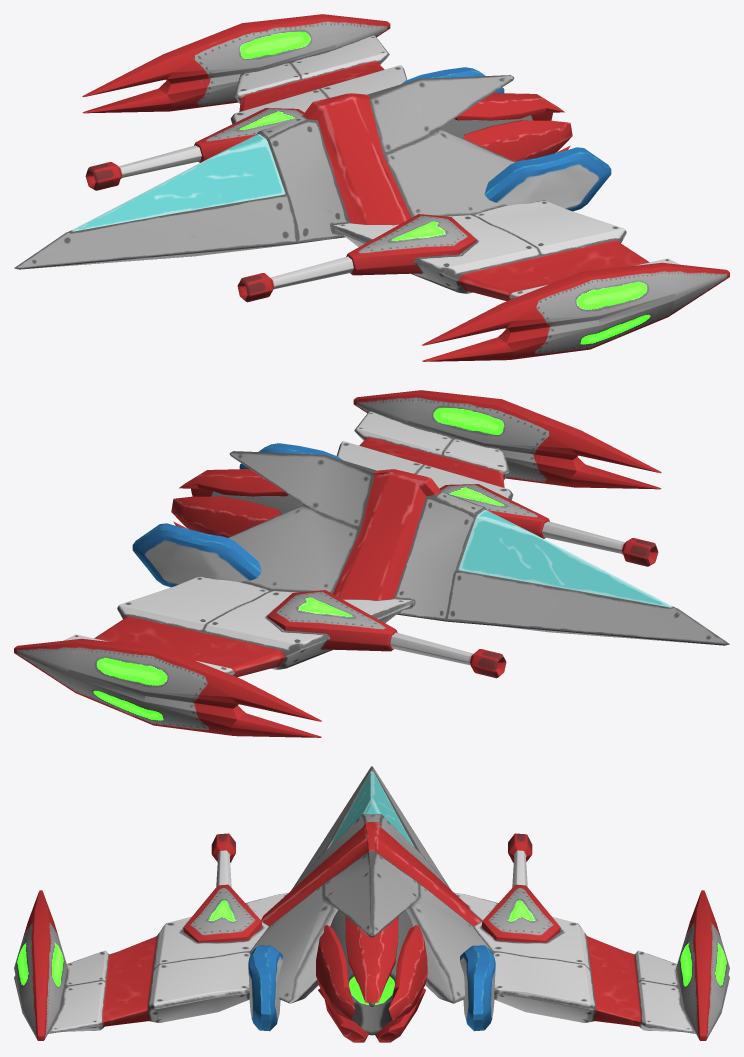
The model's file is galaga_ship.glb.
The picture shows the model from 3 angles, top to bottom: view 1: azimuth 30°, elevation 25°; view 2: azimuth 150°, elevation 25°; view 3: azimuth 270°, elevation 25°; orthographic projection. The views are drawn at different scales.
Parts seen in each view (by area): view 1: PlayerShipv2; view 2: PlayerShipv2; view 3: PlayerShipv2.
Boxes of the visible parts, box(x1,y1,x2,y2) form: PlayerShipv2: box(14, 14, 729, 361); PlayerShipv2: box(14, 390, 729, 737); PlayerShipv2: box(14, 766, 729, 1042).
Size of the model in its own units: 11.92 by 2.99 by 13.84.
1 material, 1 textured.
